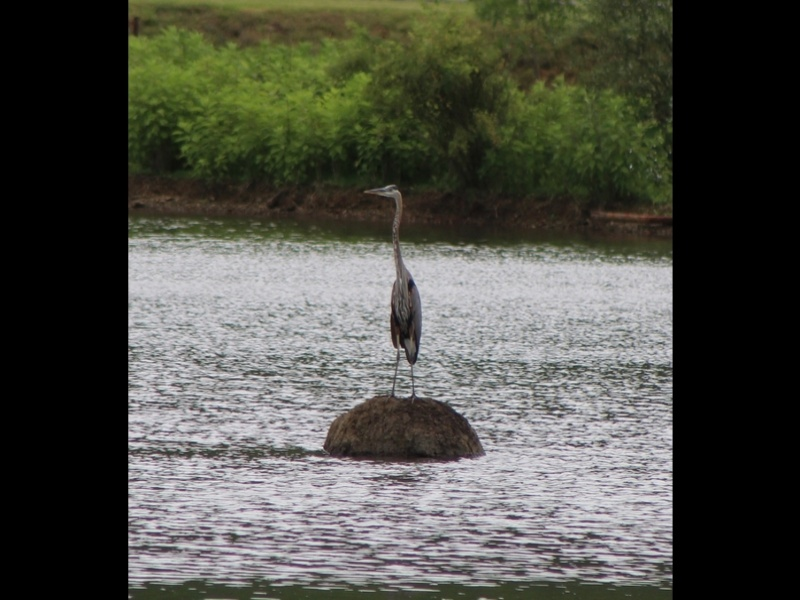heron: (365, 179, 428, 400)
